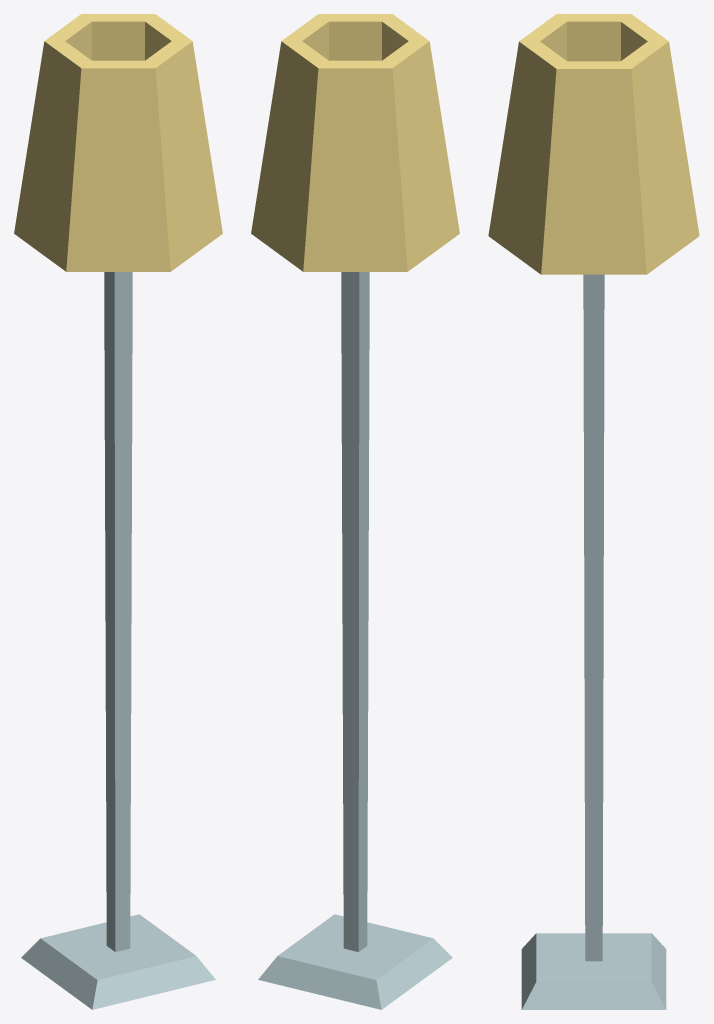
The model's file is high lamp.obj.
3 renders of one model, left to right at view 1: azimuth 30°, elevation 25°; view 2: azimuth 150°, elevation 25°; view 3: azimuth 270°, elevation 25°, orthographic.
Parts seen in each view (by area): view 1: lampRoundFloor_lampRoundFloor_lamp.002, lampRoundFloor_lampRoundFloor_metal.041; view 2: lampRoundFloor_lampRoundFloor_lamp.002, lampRoundFloor_lampRoundFloor_metal.041; view 3: lampRoundFloor_lampRoundFloor_lamp.002, lampRoundFloor_lampRoundFloor_metal.041.
Part boxes in pixels (x1,y1,x2,y2): lampRoundFloor_lampRoundFloor_lamp.002: [14, 14, 222, 271]; lampRoundFloor_lampRoundFloor_metal.041: [21, 272, 215, 1009]; lampRoundFloor_lampRoundFloor_lamp.002: [251, 14, 459, 271]; lampRoundFloor_lampRoundFloor_metal.041: [258, 272, 452, 1009]; lampRoundFloor_lampRoundFloor_lamp.002: [488, 14, 699, 274]; lampRoundFloor_lampRoundFloor_metal.041: [521, 274, 666, 1009].
Size of the model in its own units: 0.152 by 0.86 by 0.1756.
